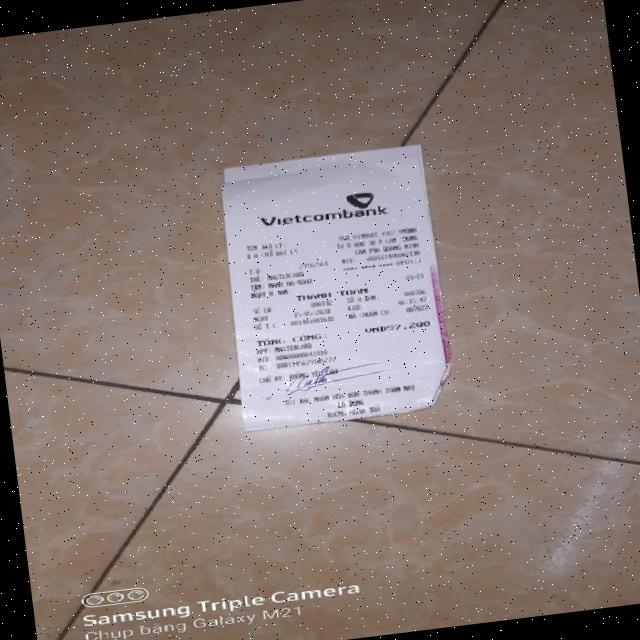Date: (289, 307, 332, 319)
Store_Name: (255, 200, 392, 234)
amount_number: (387, 316, 434, 332)
label_total: (255, 329, 325, 348)
